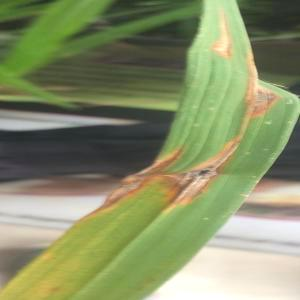1 RiceBlast: (96, 129, 191, 206), (173, 127, 252, 214), (237, 51, 300, 125), (204, 9, 241, 58)
